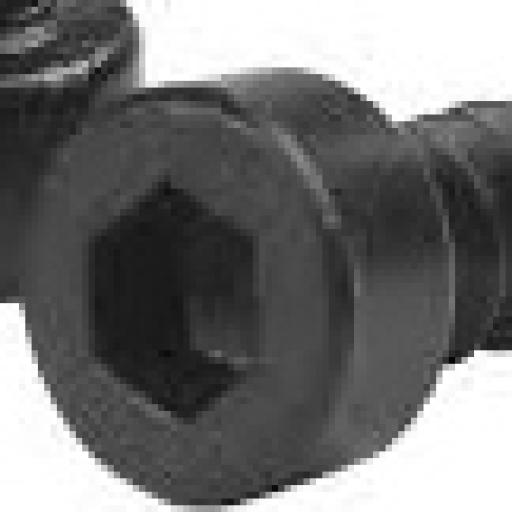Hex-Allen: (0, 3, 506, 512)
